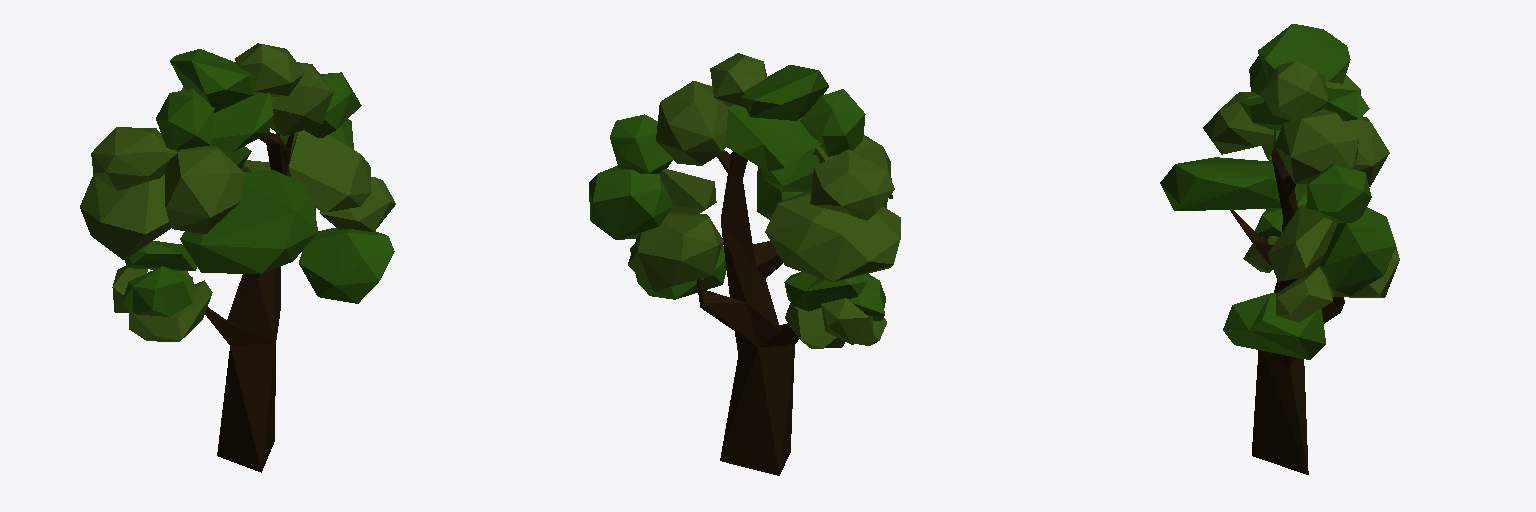
File: LowLowPolyOak.obj
3 renders of one model, left to right at view 1: azimuth 30°, elevation 25°; view 2: azimuth 150°, elevation 25°; view 3: azimuth 270°, elevation 25°, orthographic.
Parts seen in each view (by area): view 1: Oak_Cylinder.004; view 2: Oak_Cylinder.004; view 3: Oak_Cylinder.004.
Part boxes in pixels (bbox=[...]): Oak_Cylinder.004: bbox=[80, 43, 395, 472]; Oak_Cylinder.004: bbox=[589, 53, 900, 475]; Oak_Cylinder.004: bbox=[1160, 24, 1399, 474].
Bounding box in the file's own units: 3.95 × 5.3 × 2.82.